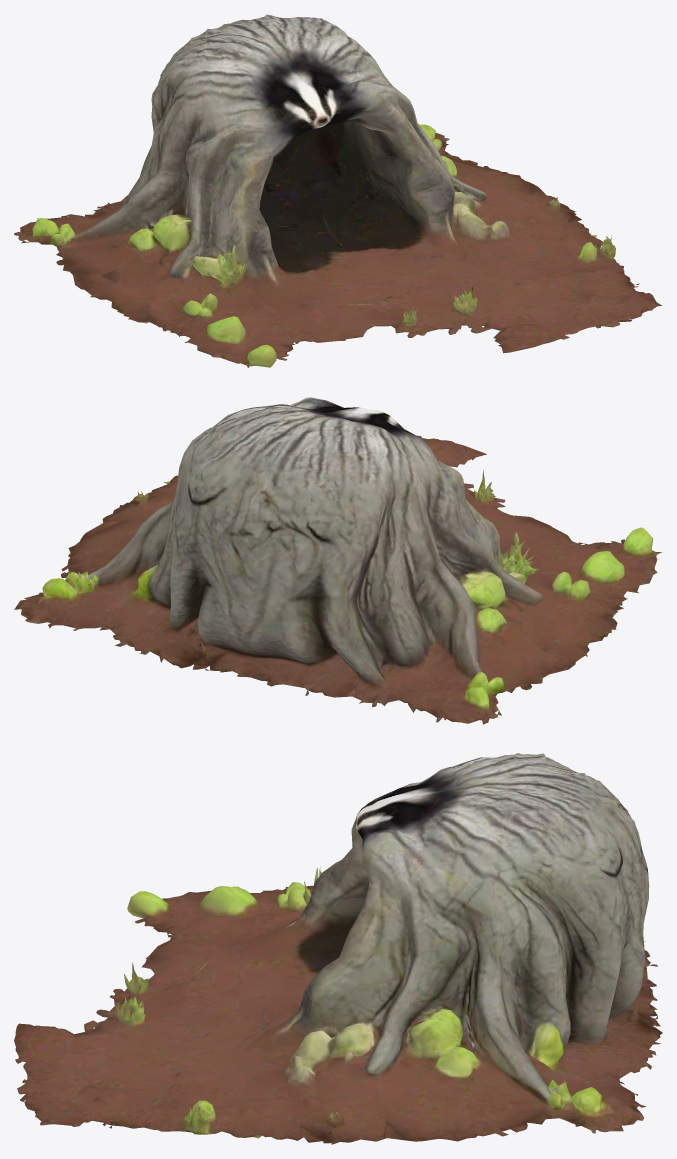
The model's file is prop-badger-sett.glb.
The picture shows the model from 3 angles, top to bottom: view 1: azimuth 30°, elevation 25°; view 2: azimuth 150°, elevation 25°; view 3: azimuth 270°, elevation 25°; orthographic projection. The views are drawn at different scales.
Size of the model in its own units: 1.88 by 0.7434 by 1.9.
Materials: 1 (1 with a texture image).
